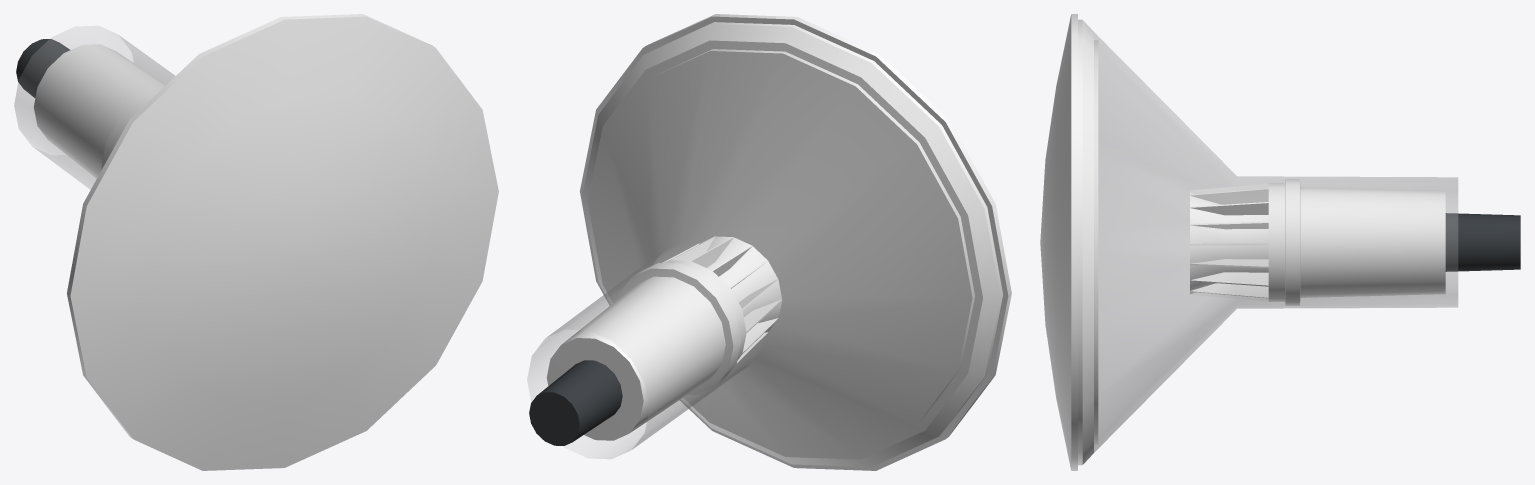
Rendered from BDS470.obj.
3 renders of one model, left to right at view 1: azimuth 30°, elevation 25°; view 2: azimuth 150°, elevation 25°; view 3: azimuth 270°, elevation 25°, orthographic. The views are drawn at different scales.
Visible parts, largest first — view 1: BezierCurve.003, Glas.001; view 2: BezierCurve.003, Glas.001, Rippen; view 3: Glas.001, BezierCurve.003, Rippen.
Part boxes in pixels (x1,y1,x2,y2): BezierCurve.003: [16, 14, 498, 470]; Glas.001: [14, 26, 175, 189]; BezierCurve.003: [529, 14, 1011, 470]; Glas.001: [527, 41, 982, 459]; Rippen: [662, 236, 782, 362]; Glas.001: [1094, 32, 1458, 452]; BezierCurve.003: [1040, 14, 1520, 470]; Rippen: [1190, 183, 1268, 301].
Bounding box in the file's own units: 0.64 × 0.64 × 0.6722.
4 materials, 3 textured.
